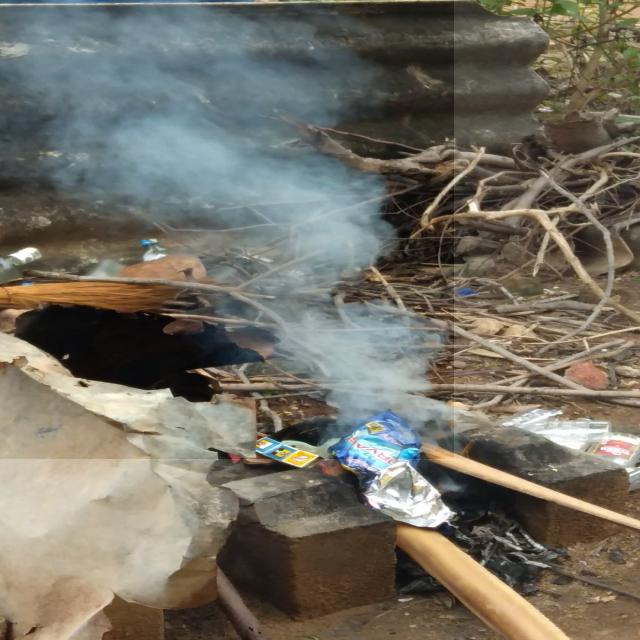Smoke: (0, 0, 454, 459)
